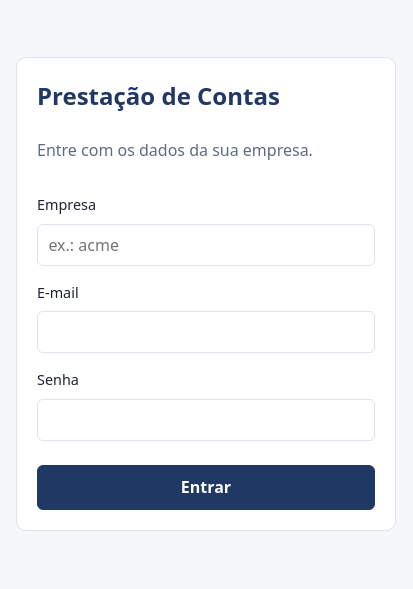
Test: LoginPage › valida os campos antes de enviar
This screenshot has width=413, height=589.
Type "invalido" into the field labelled "E-mail". click: point(206, 332)
box: x1=37 y1=311 x2=375 y2=353
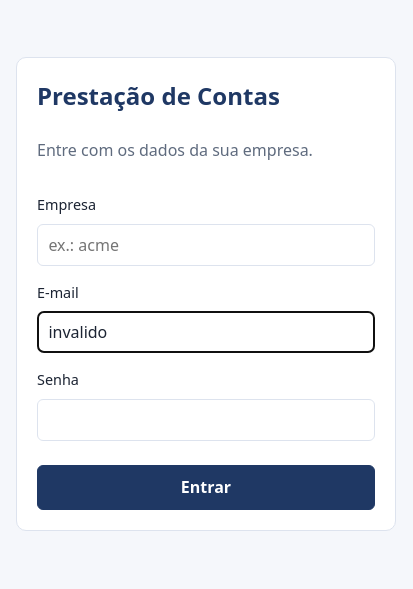
Click the button "Entrar". click: point(206, 487)
box: x1=37 y1=465 x2=375 y2=510
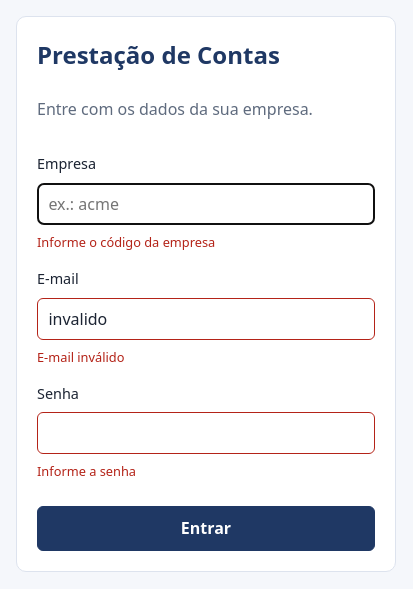
Expected: the text "Informe o código da empresa" is shown, x1=37 y1=233 x2=215 y2=251
Expected: the text "E-mail inválido" is shown, x1=37 y1=348 x2=124 y2=366
Expected: the text "Informe a senha" is shown, x1=37 y1=462 x2=136 y2=480
